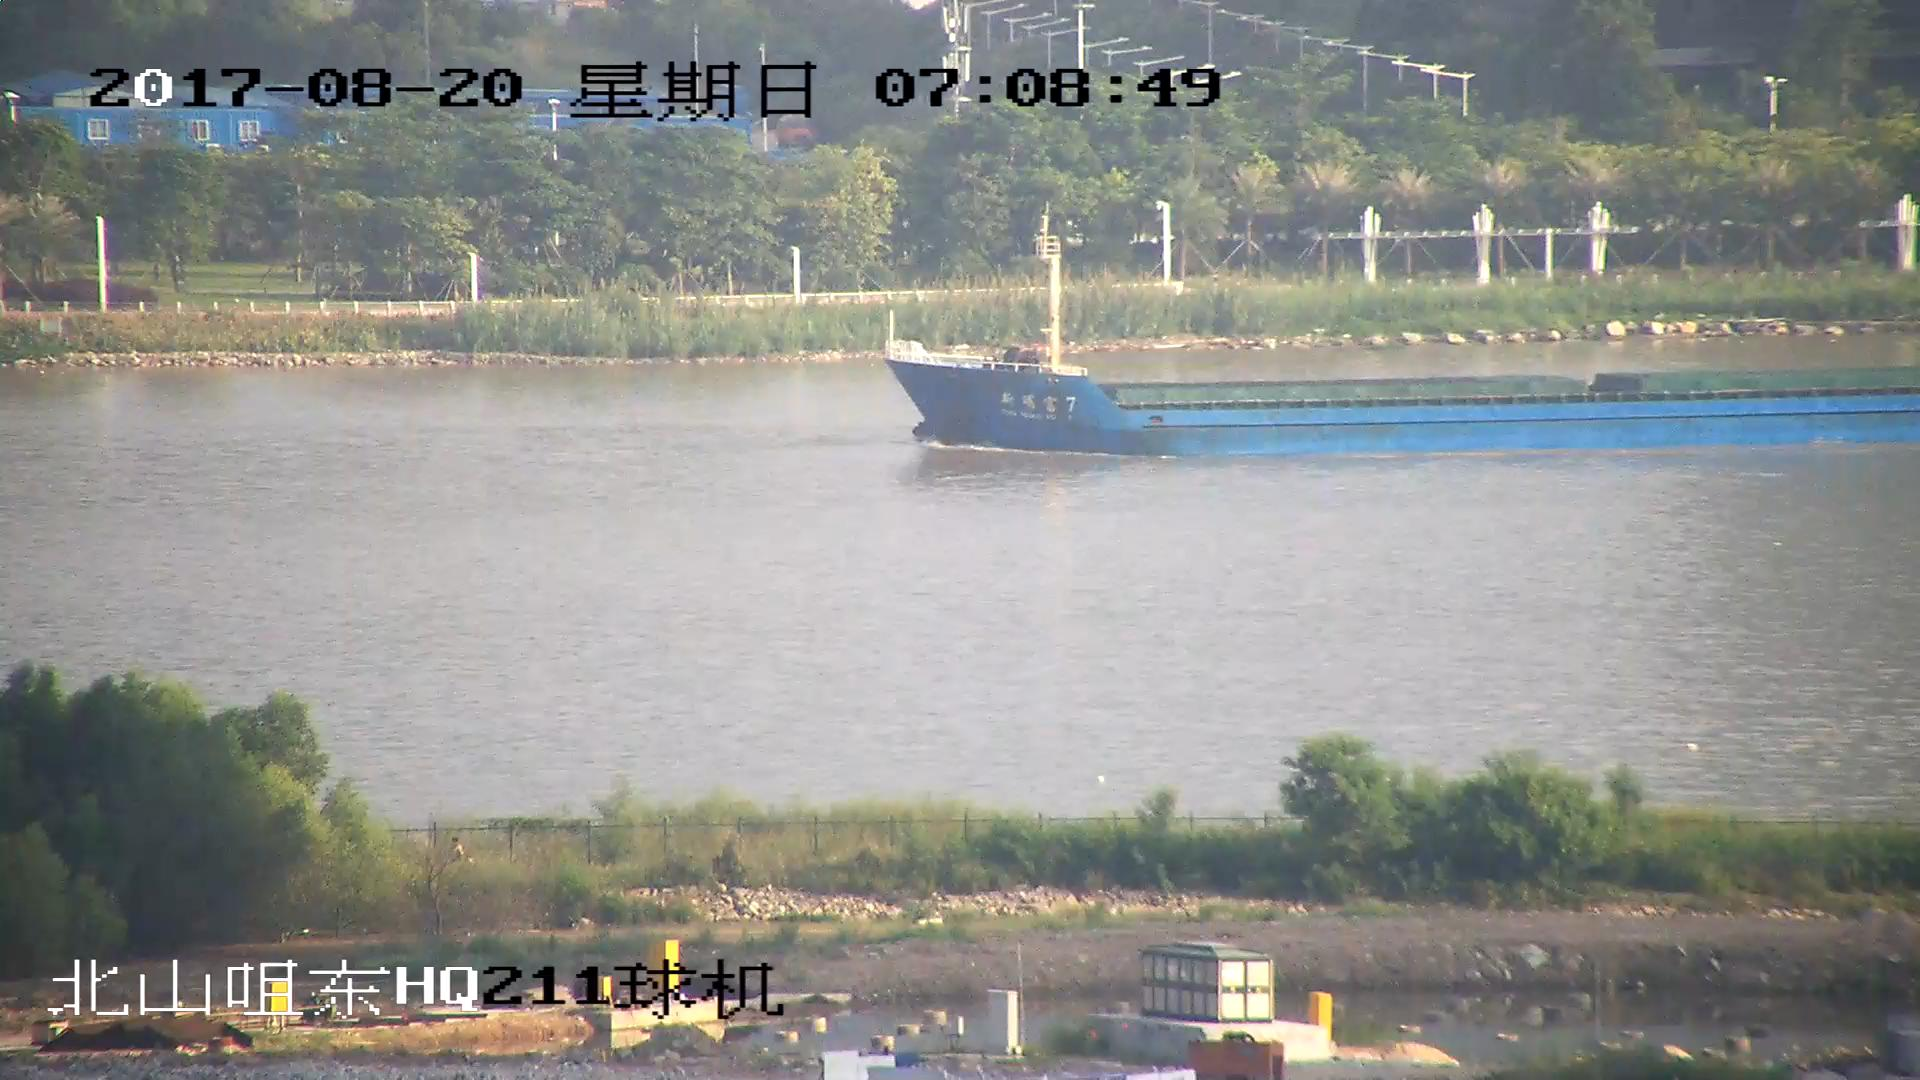general cargo ship: (881, 232, 1920, 463)
